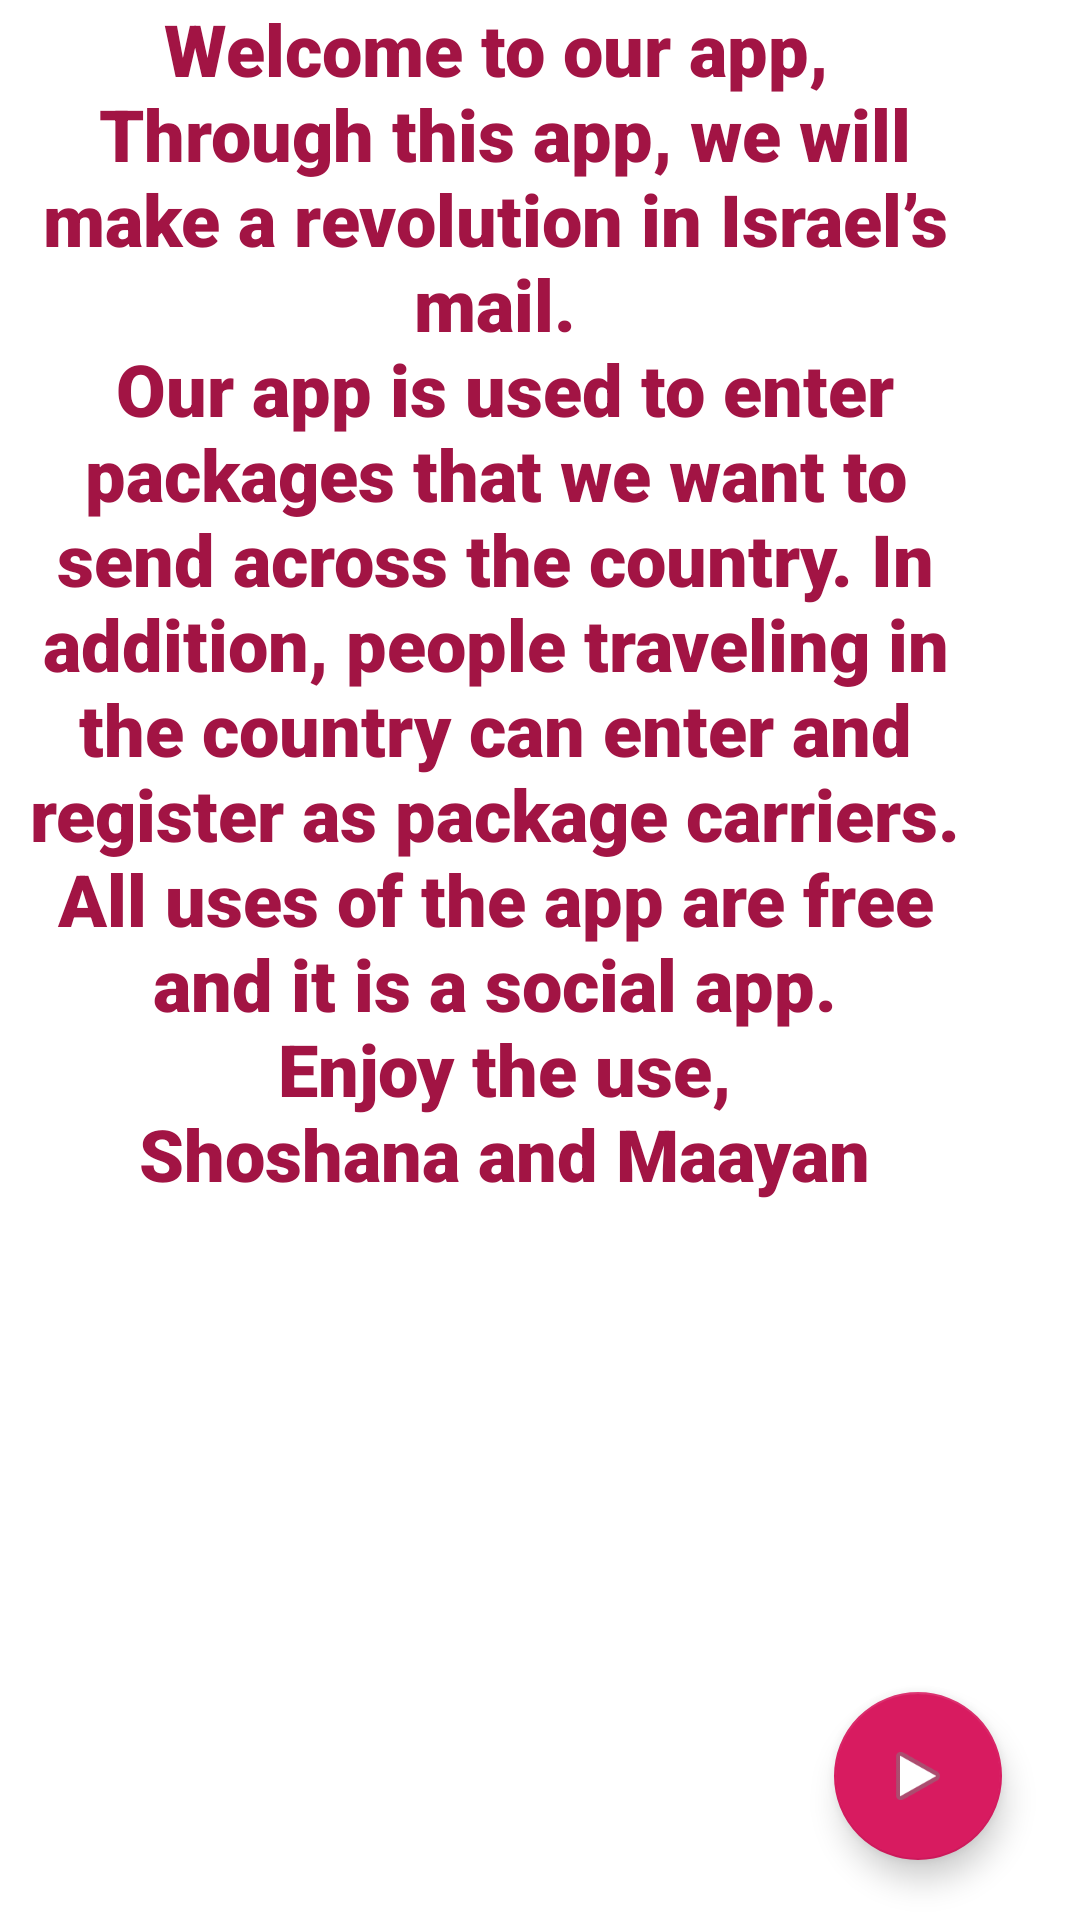

Named icons in this screenshot (1080w x 1920h) and their centers, (x=x, y=y):
play: (x=918, y=1776)
